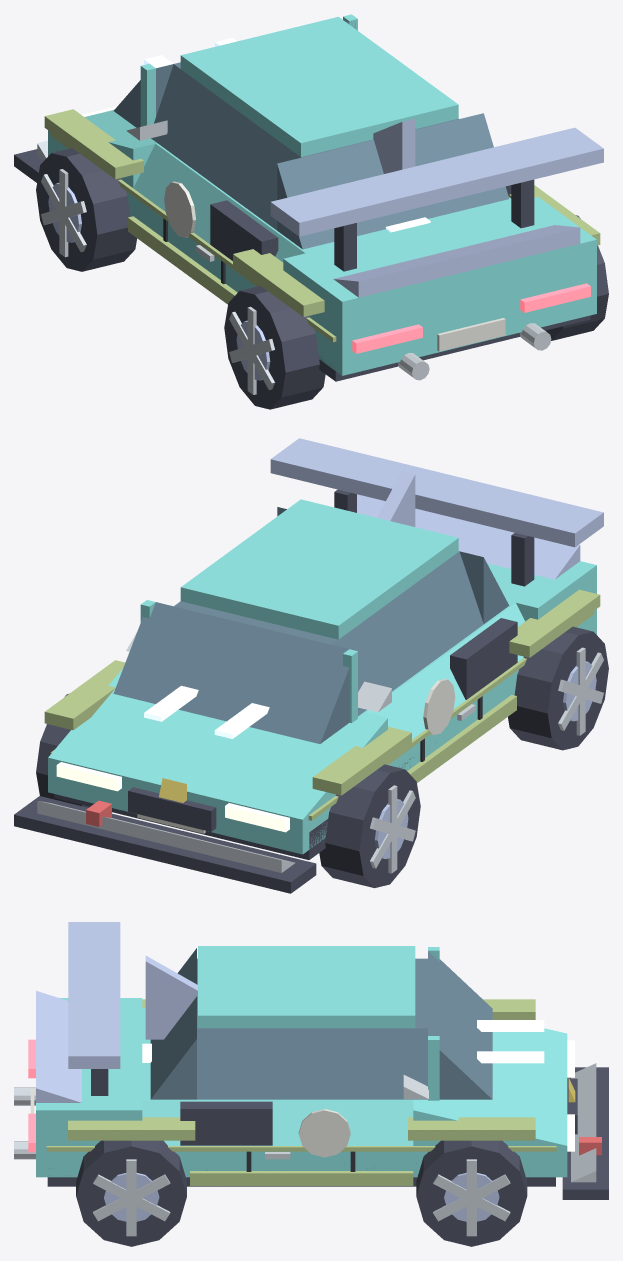
The model's file is tracknova.glb.
3 views of the same model, one above another, from view 1: azimuth 30°, elevation 25°; view 2: azimuth 150°, elevation 25°; view 3: azimuth 270°, elevation 25° (orthographic). The views are drawn at different scales.
Visible parts, largest first — view 1: Roof.297, Tail.097, RearWing.060, CabinSideL.094, RearWindow.197, Body.297, Wheel_RL.257, Wheel_FL.257, Ducktail.068, ShoulderL.094, Arch-1False.173, Arch-1True.173 (+28 smaller); view 2: Roof.297, Windshield.197, Nose.094, RearWing.060, CabinSideL.094, Body.297, Splitter.064, Wheel_FL.257, Wheel_RL.257, Ducktail.068, Bumper.293, ShoulderL.094 (+27 smaller); view 3: Roof.297, CabinSideR.094, Nose.094, RearWing.060, Body.297, Wheel_RR.257, Wheel_FR.257, Windshield.197, Tail.097, ShoulderR.094, Ducktail.068, RearWindow.197 (+26 smaller).
Boxes of the visible parts, box(x1,y1,x2,y2) form: Roof.297: box(180, 16, 458, 156); Tail.097: box(283, 196, 596, 341); RearWing.060: box(270, 127, 603, 236); CabinSideL.094: box(151, 64, 300, 230); RearWindow.197: box(277, 113, 509, 249); Body.297: box(48, 130, 596, 375); Wheel_RL.257: box(224, 286, 325, 409); Wheel_FL.257: box(36, 148, 136, 271); Ducktail.068: box(333, 225, 580, 297); ShoulderL.094: box(133, 143, 304, 262); Arch-1False.173: box(44, 109, 143, 179); Arch-1True.173: box(233, 249, 324, 316); Roof.297: box(180, 499, 458, 639); Windshield.197: box(113, 602, 349, 743); Nose.094: box(48, 668, 387, 819); RearWing.060: box(270, 438, 603, 547); CabinSideL.094: box(332, 551, 483, 716); Body.297: box(48, 609, 596, 854); Splitter.064: box(14, 796, 316, 893); Wheel_FL.257: box(319, 764, 420, 888); Wheel_RL.257: box(508, 626, 608, 750); Ducktail.068: box(357, 494, 580, 579); Bumper.293: box(37, 801, 295, 872); ShoulderL.094: box(366, 603, 524, 739); Roof.297: box(198, 946, 415, 1028); CabinSideR.094: box(197, 1028, 427, 1099); Nose.094: box(413, 1028, 567, 1145); RearWing.060: box(68, 922, 120, 1068); Body.297: box(36, 1146, 567, 1177); Wheel_RR.257: box(76, 1140, 186, 1246); Wheel_FR.257: box(416, 1140, 527, 1246); Windshield.197: box(428, 951, 492, 1099); Tail.097: box(36, 998, 142, 1145); ShoulderR.094: box(142, 1100, 413, 1145); Ducktail.068: box(36, 991, 81, 1102); RearWindow.197: box(150, 948, 196, 1099).
Bounding box in the file's own units: 3 × 2.08 × 5.15.
